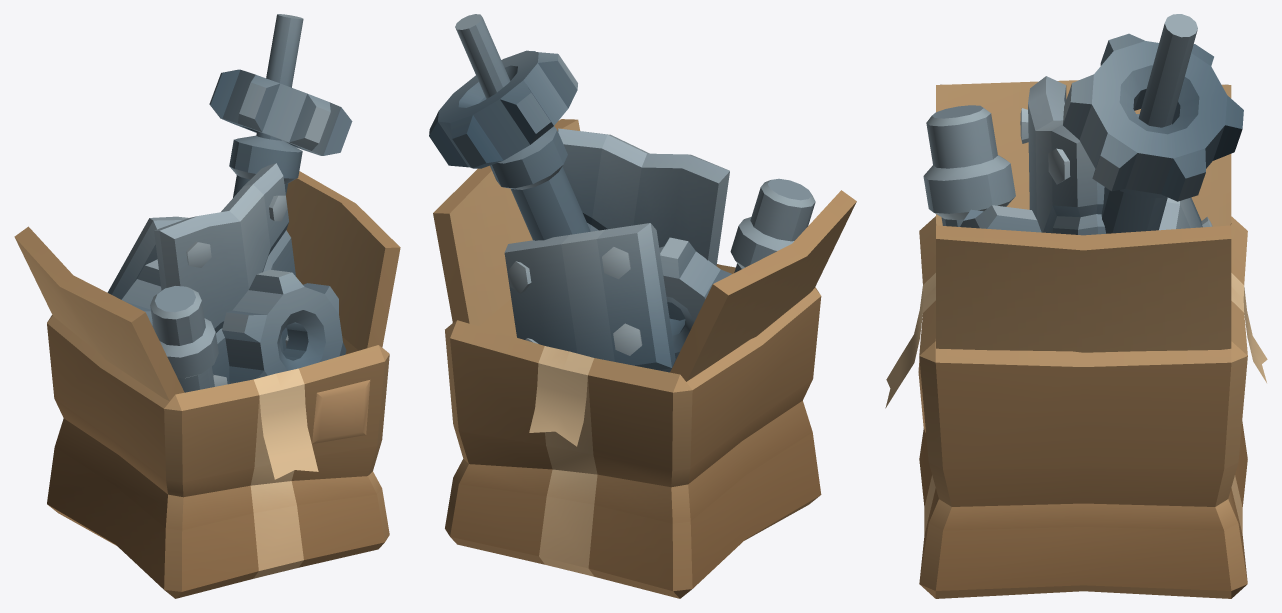
The model's file is Parts_Pile_Medium.glb.
3 views of the same model, side by side, from view 1: azimuth 30°, elevation 25°; view 2: azimuth 150°, elevation 25°; view 3: azimuth 270°, elevation 25° (orthographic). The views are drawn at different scales.
Parts seen in each view (by area): view 1: Parts_Pile_Medium; view 2: Parts_Pile_Medium; view 3: Parts_Pile_Medium.
Part boxes in pixels (x1,y1,x2,y2): Parts_Pile_Medium: [14, 14, 400, 598]; Parts_Pile_Medium: [429, 14, 856, 598]; Parts_Pile_Medium: [885, 14, 1267, 598].
Size of the model in its own units: 1.02 by 1.47 by 0.8727.
1 material, 1 textured.
